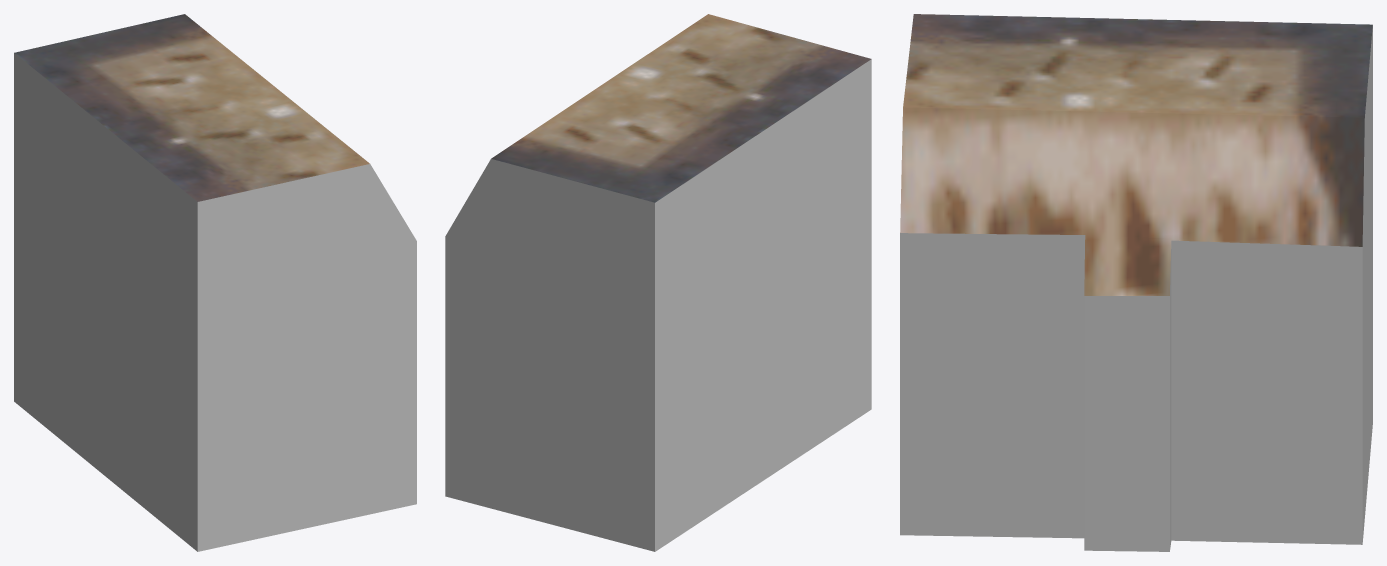
The model's file is DEBW_0010007Txbx.gltf.
3 renders of one model, left to right at view 1: azimuth 30°, elevation 25°; view 2: azimuth 150°, elevation 25°; view 3: azimuth 270°, elevation 25°, orthographic. The views are drawn at different scales.
Visible parts, largest first — view 1: Z_UP; view 2: Z_UP; view 3: Z_UP.
Boxes of the visible parts, bbox=[...] form: Z_UP: bbox=[14, 14, 416, 551]; Z_UP: bbox=[445, 14, 871, 551]; Z_UP: bbox=[900, 14, 1372, 551].
Bounding box in the file's own units: 12.61 × 17.37 × 18.49.
Materials: 2 (1 with a texture image).
